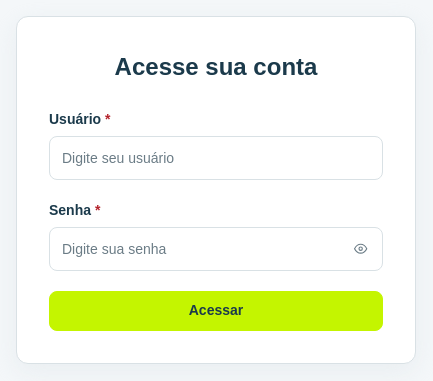
it: Login › Actions › should show and hide the password after losing focus
Type "CSP123!" into the password field labelled "Senha" at (216, 249), box [49,227,383,271]
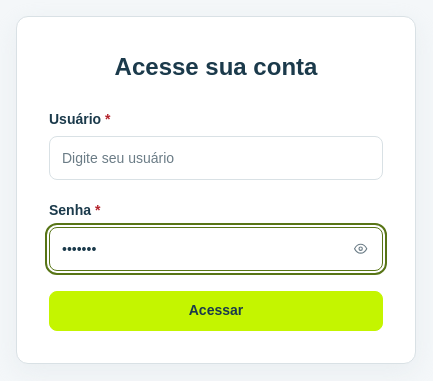
Click the field labelled "Usuário" at (216, 158), box [49,136,383,180]
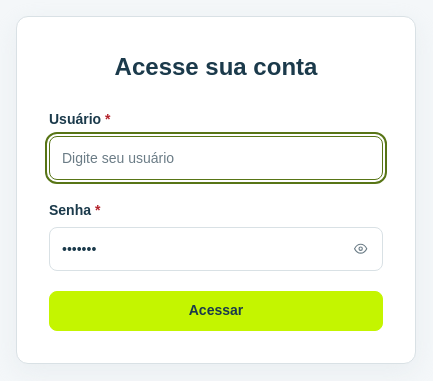
Click the button named "Mostrar senha" at (361, 249), box [343,231,379,267]
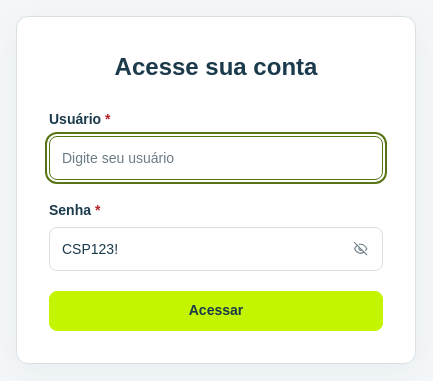
Expected: the field labelled "Senha" shows its text, [49,227,383,271]
Click the button named "Ocultar senha" at (361, 249), box [343,231,379,267]
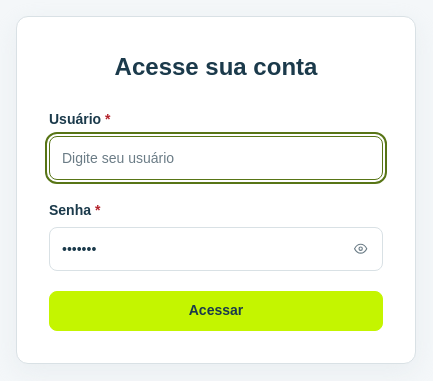
Expected: the password field labelled "Senha" hides its text, [49,227,383,271]
